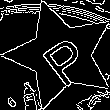P_NW: (30, 24, 92, 86)
